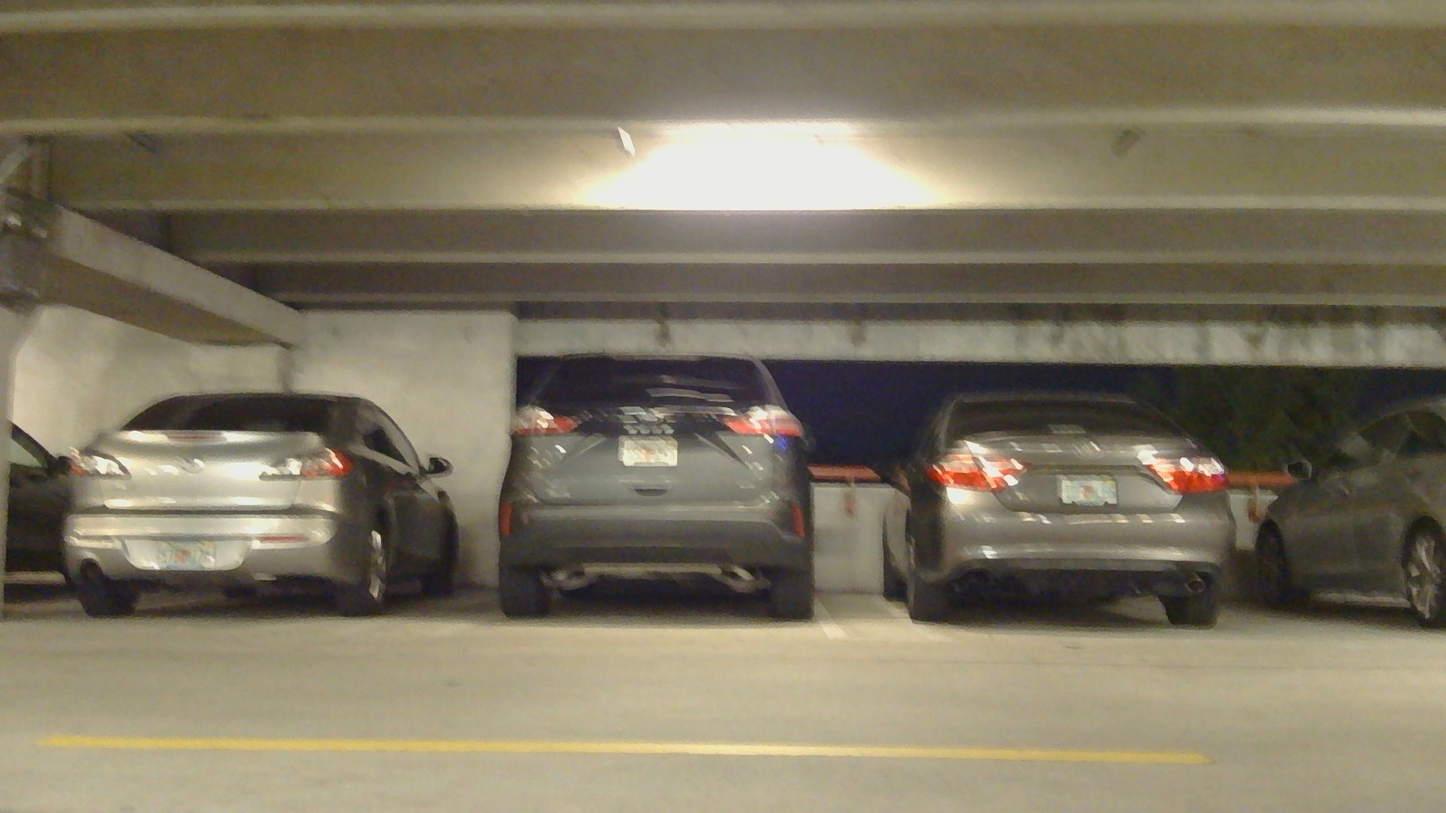occupied_spot: (62, 377, 467, 626), (496, 352, 828, 627), (874, 385, 1241, 633)
